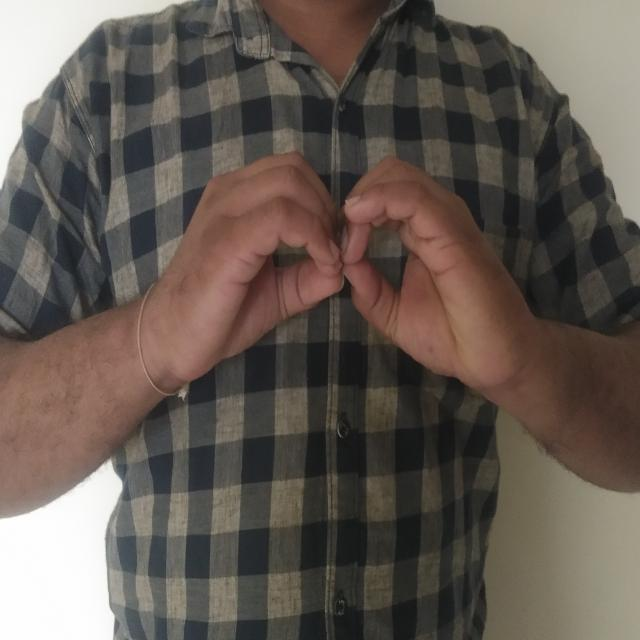B: (163, 144, 510, 401)
